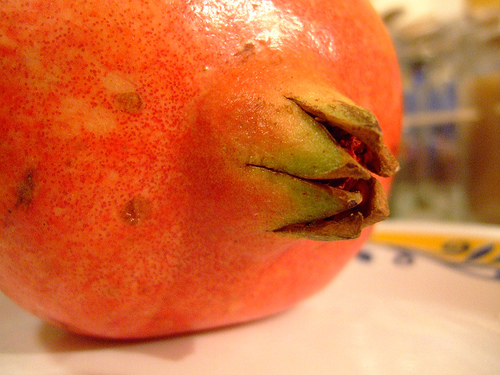pomogranate: (1, 0, 407, 344)
